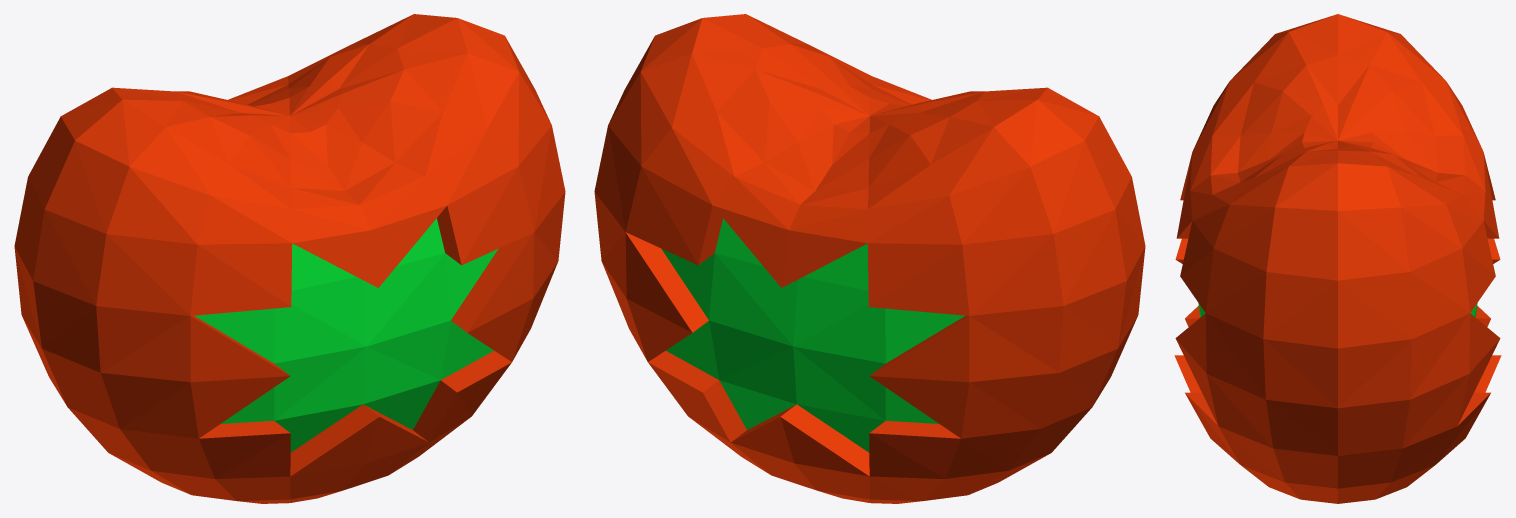
File: health_plant4_ripe.glb
3 renders of one model, left to right at view 1: azimuth 30°, elevation 25°; view 2: azimuth 150°, elevation 25°; view 3: azimuth 270°, elevation 25°, orthographic. The views are drawn at different scales.
Parts seen in each view (by area): view 1: Roots.001; view 2: Roots.001; view 3: Roots.001.
Boxes of the visible parts, x1=… form: Roots.001: x1=14, y1=14, x2=565, y2=503; Roots.001: x1=594, y1=14, x2=1145, y2=503; Roots.001: x1=1174, y1=14, x2=1501, y2=503.
Bounding box in the file's own units: 1.8 × 1.44 × 1.09.
